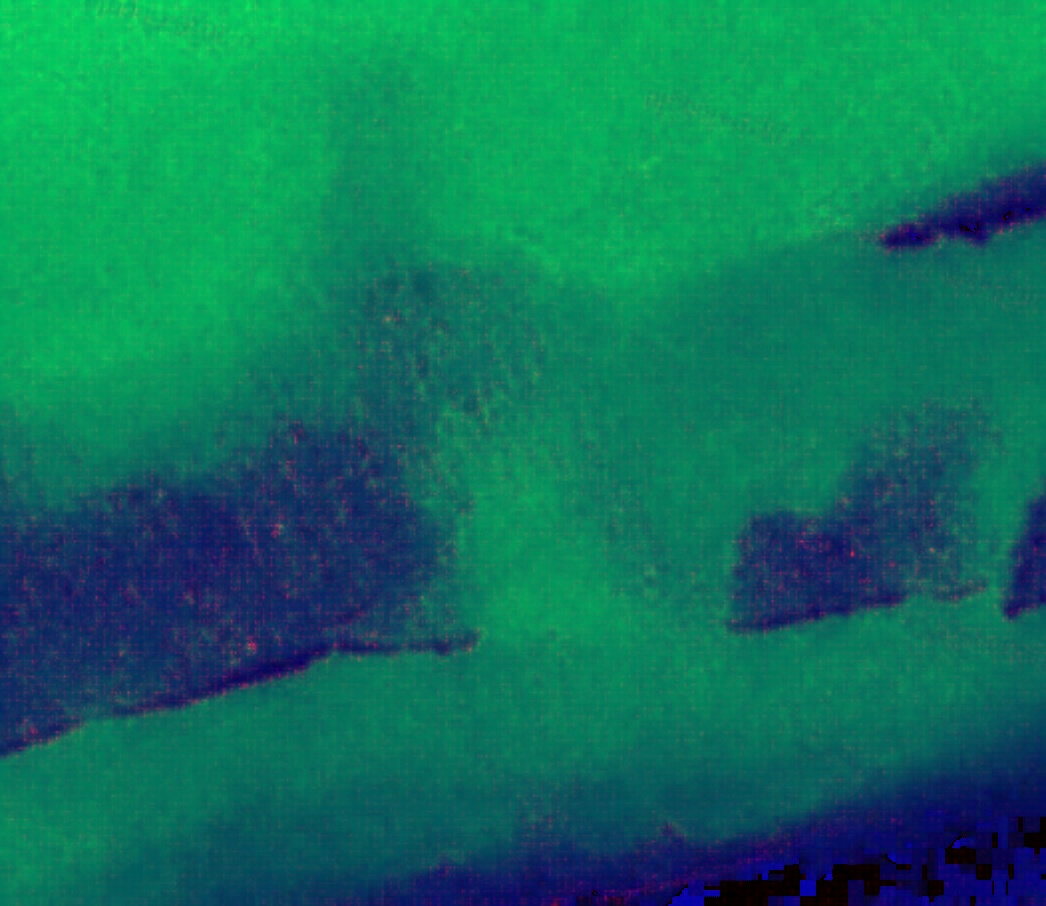rip_current: (343, 277, 791, 718)
